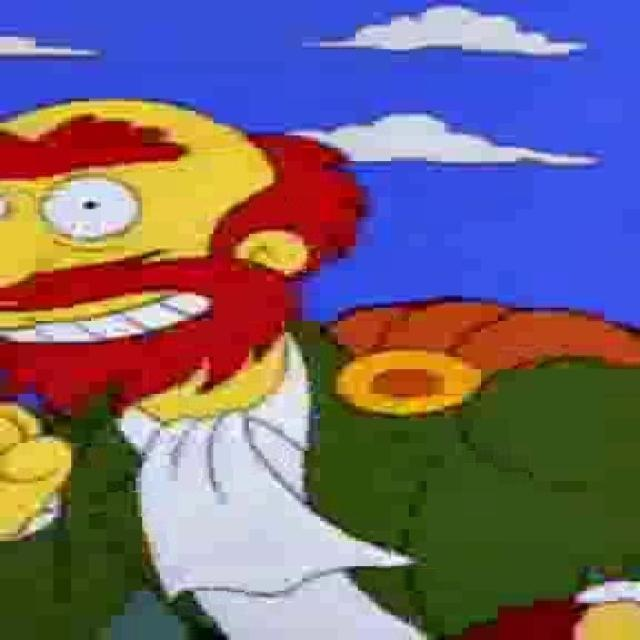Groundskeeper Willie: (0, 93, 378, 427)
